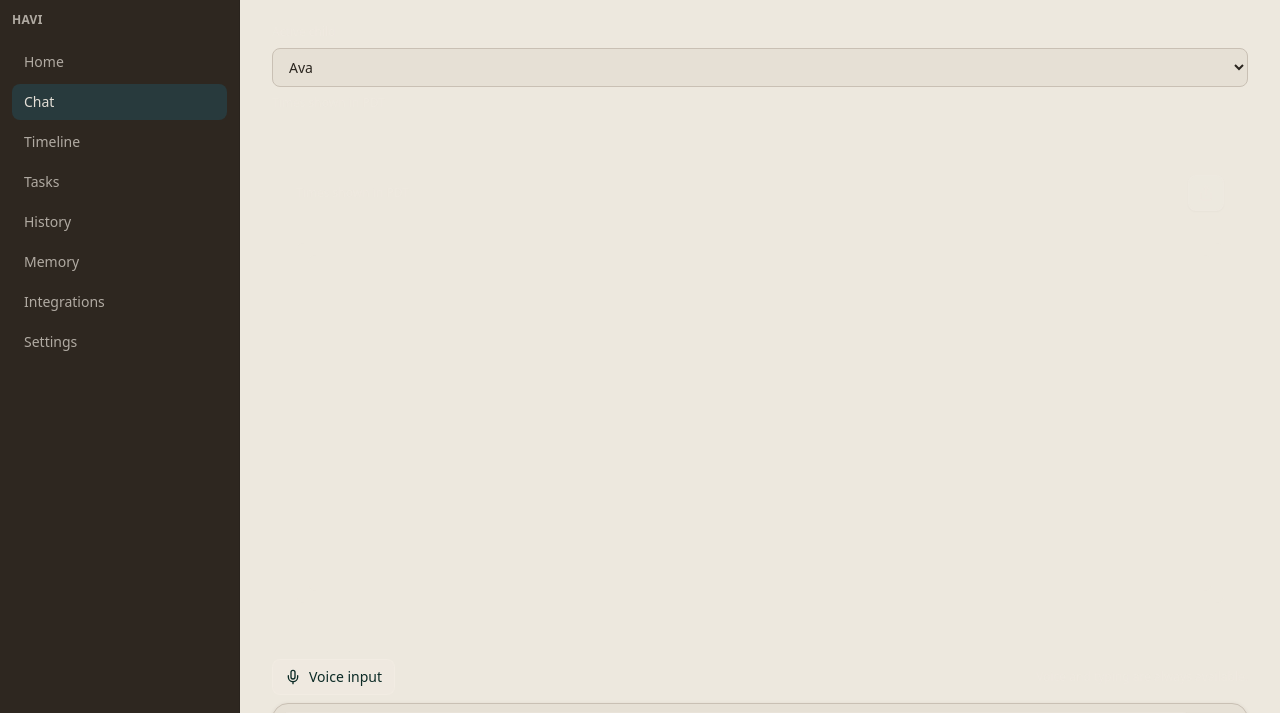
Scenario: Home zones – V1 foundations › shows the empty state when there is no recent data
This screenshot has width=1280, height=713.
Click the button "Home".
click(120, 62)  # box top-left (12, 44), bottom-right (227, 80)
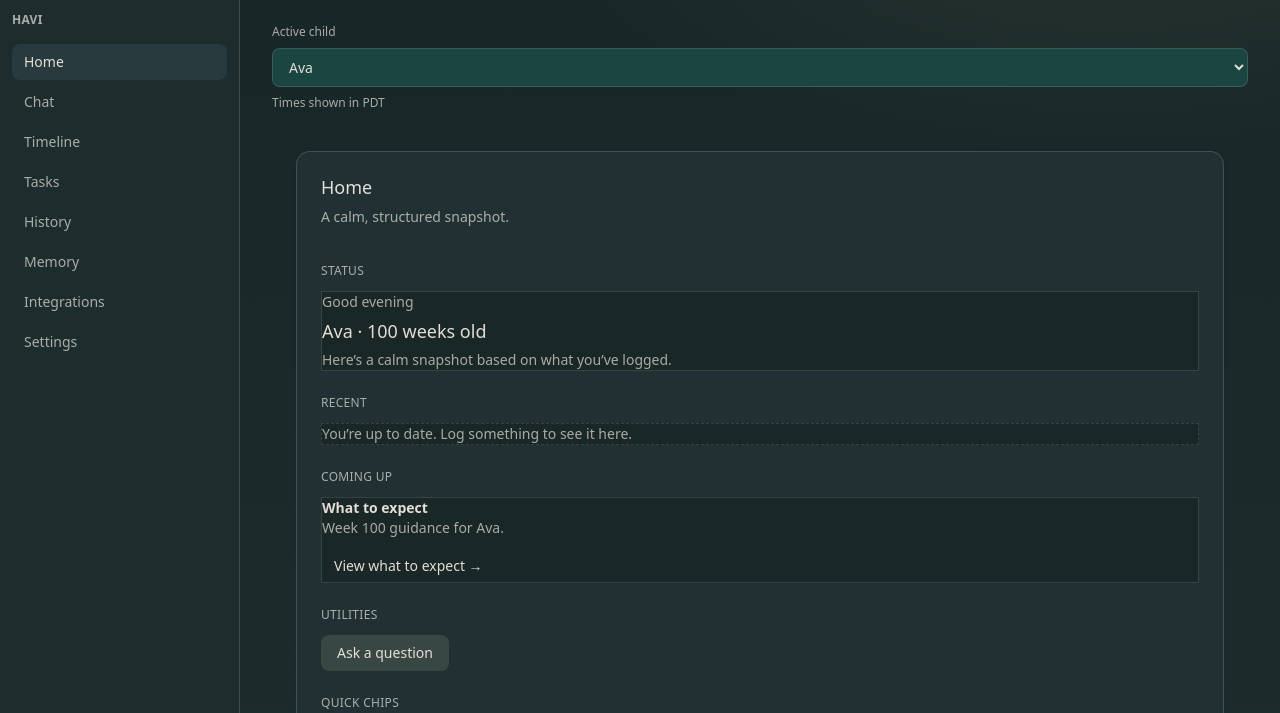
Now the text "You’re up to date. Log something to see it here." is shown, box top-left (322, 424), bottom-right (632, 443)
